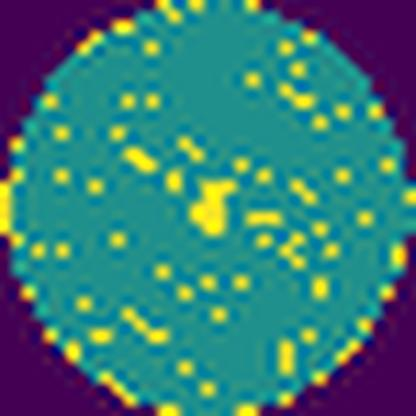Center: (188, 175, 242, 243)
